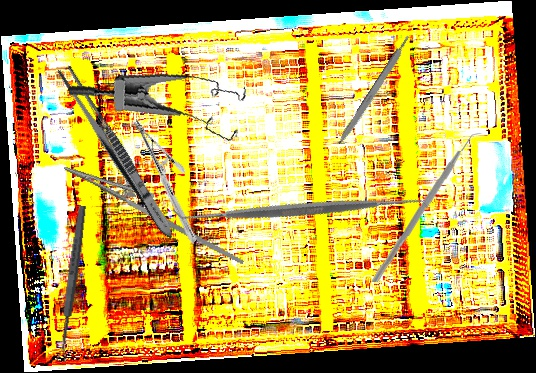Chopper: (371, 129, 489, 286)
Dressing Forceps: (52, 61, 181, 243)
Needle Holder: (54, 150, 259, 266), (96, 118, 234, 245)
Scalpel Handle: (336, 34, 414, 147)
Spatula Surgical: (172, 80, 429, 338)
Speculum: (67, 51, 255, 170)
Surgical Spoon: (55, 204, 88, 363)
